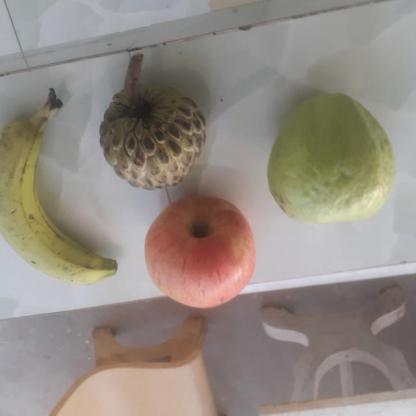annona: (98, 66, 209, 190)
apple: (142, 194, 261, 308)
banana: (0, 104, 122, 283)
guava: (271, 96, 400, 219)
